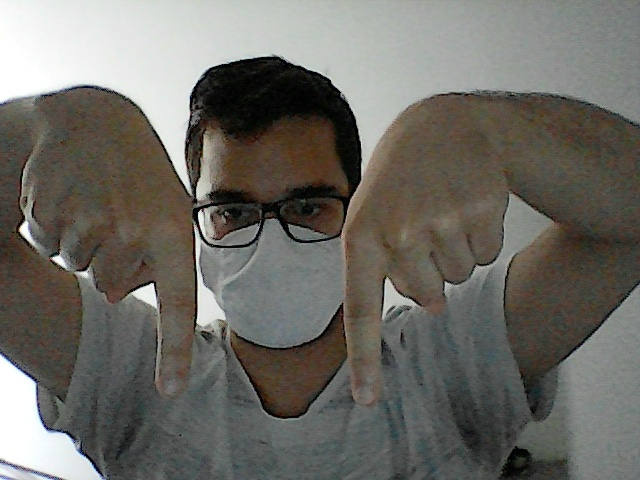down: (15, 64, 206, 409), (338, 58, 518, 412)
